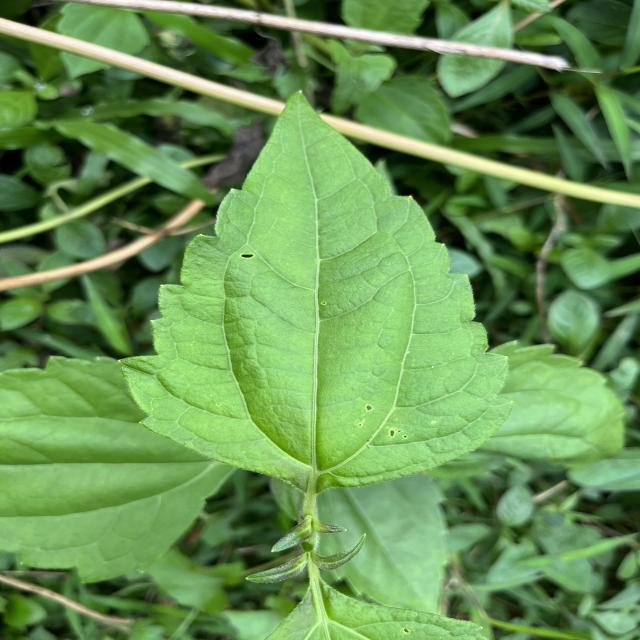Chromolaena odorata: (112, 83, 522, 500)
